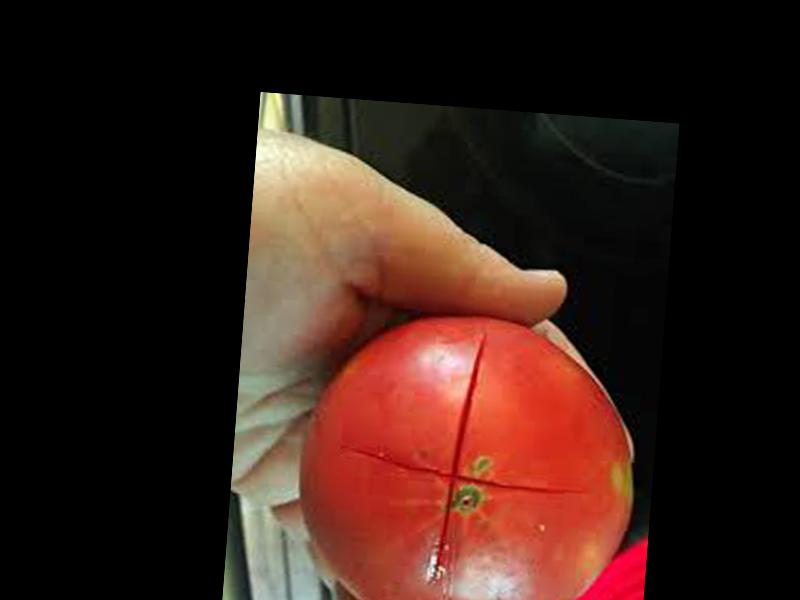Tomato: (287, 302, 644, 600)
